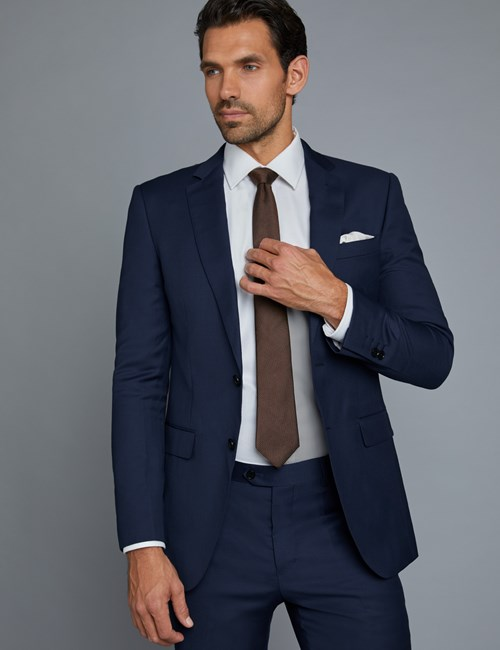F_M_suit jacket: (87, 128, 452, 590)
F_shirt: (213, 137, 326, 470)
F_tie: (237, 168, 301, 469)
